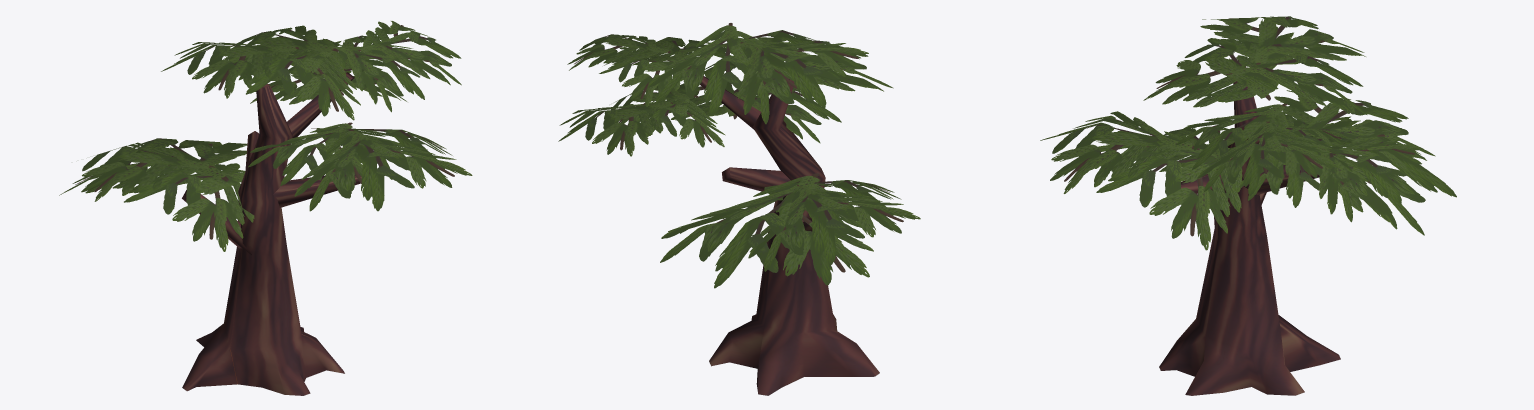
Rendered from pine1.glb.
3 views of the same model, side by side, from view 1: azimuth 30°, elevation 25°; view 2: azimuth 150°, elevation 25°; view 3: azimuth 270°, elevation 25° (orthographic). The views are drawn at different scales.
Visible parts, largest first — view 1: pine1; view 2: pine1; view 3: pine1.
Boxes of the visible parts, x1=… form: pine1: x1=59, y1=21, x2=472, y2=395; pine1: x1=558, y1=23, x2=920, y2=395; pine1: x1=1040, y1=16, x2=1456, y2=395.
Size of the model in its own units: 34.5 by 26.02 by 38.04.
Materials: 2 (2 with a texture image).
